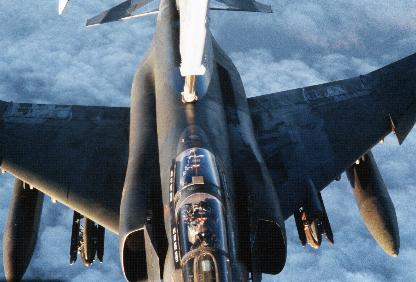F35: (0, 0, 416, 280)
